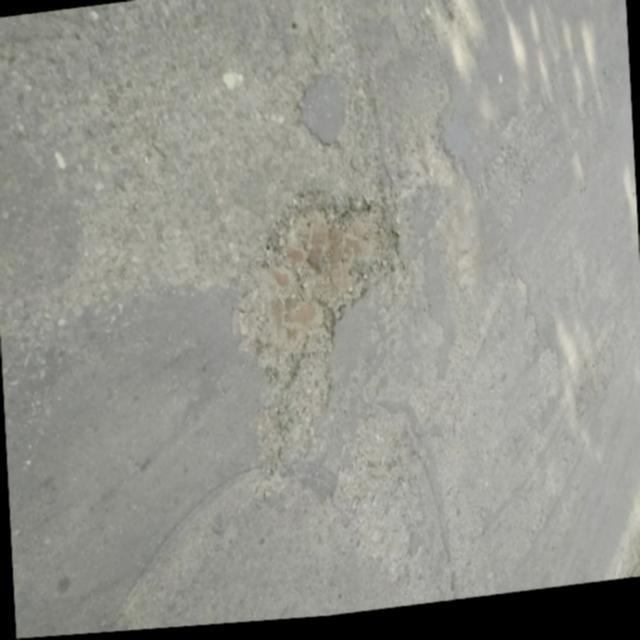pothole: (221, 185, 410, 404)
